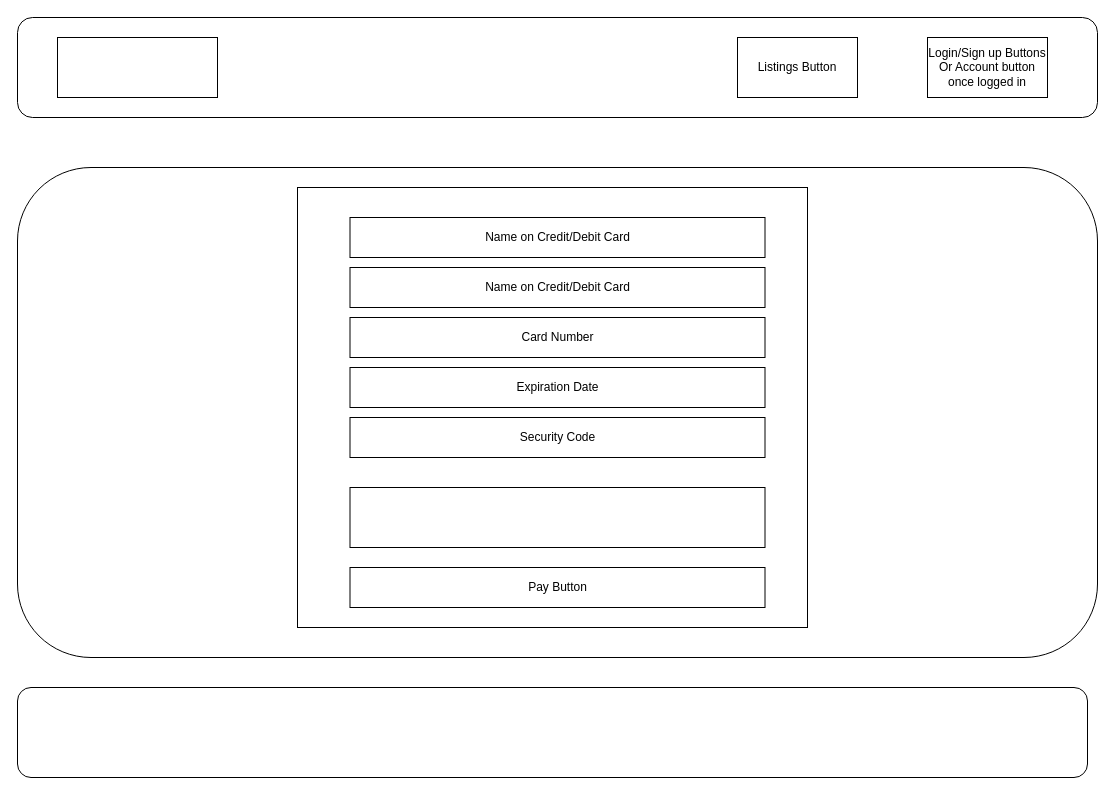
This 1115x795 diagram has some shape labels left out. Here are the shapes that lost their labels. From the top down, the centre of each, then its label:
the point at 137,67: Product Logo
the point at 557,517: Payment Amount
the point at 552,732: Footer containing contact information and socials
